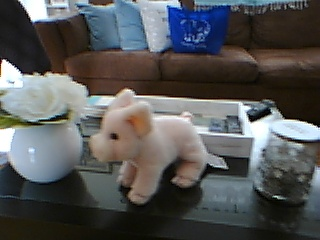piggy: (88, 87, 210, 205)
